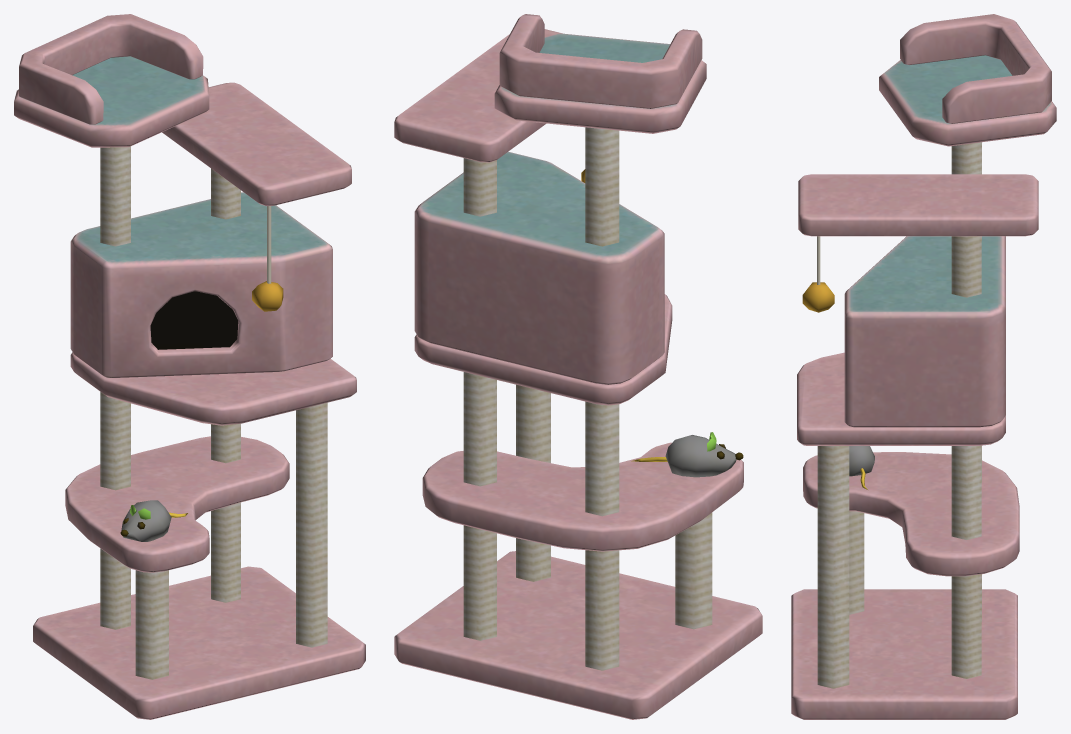
Rendered from CatTower.glb.
The picture shows the model from 3 angles, left to right: view 1: azimuth 30°, elevation 25°; view 2: azimuth 150°, elevation 25°; view 3: azimuth 270°, elevation 25°; orthographic projection. The views are drawn at different scales.
Visible parts, largest first — view 1: Base_low__mReBody; view 2: Base_low__mReBody; view 3: Base_low__mReBody.
Boxes of the visible parts, x1,y1,x2,y2 form: Base_low__mReBody: [14, 14, 365, 719]; Base_low__mReBody: [394, 14, 762, 719]; Base_low__mReBody: [791, 14, 1056, 719].
Size of the model in its own units: 0.914 by 2.03 by 0.8305.
Materials: 1 (1 with a texture image).
